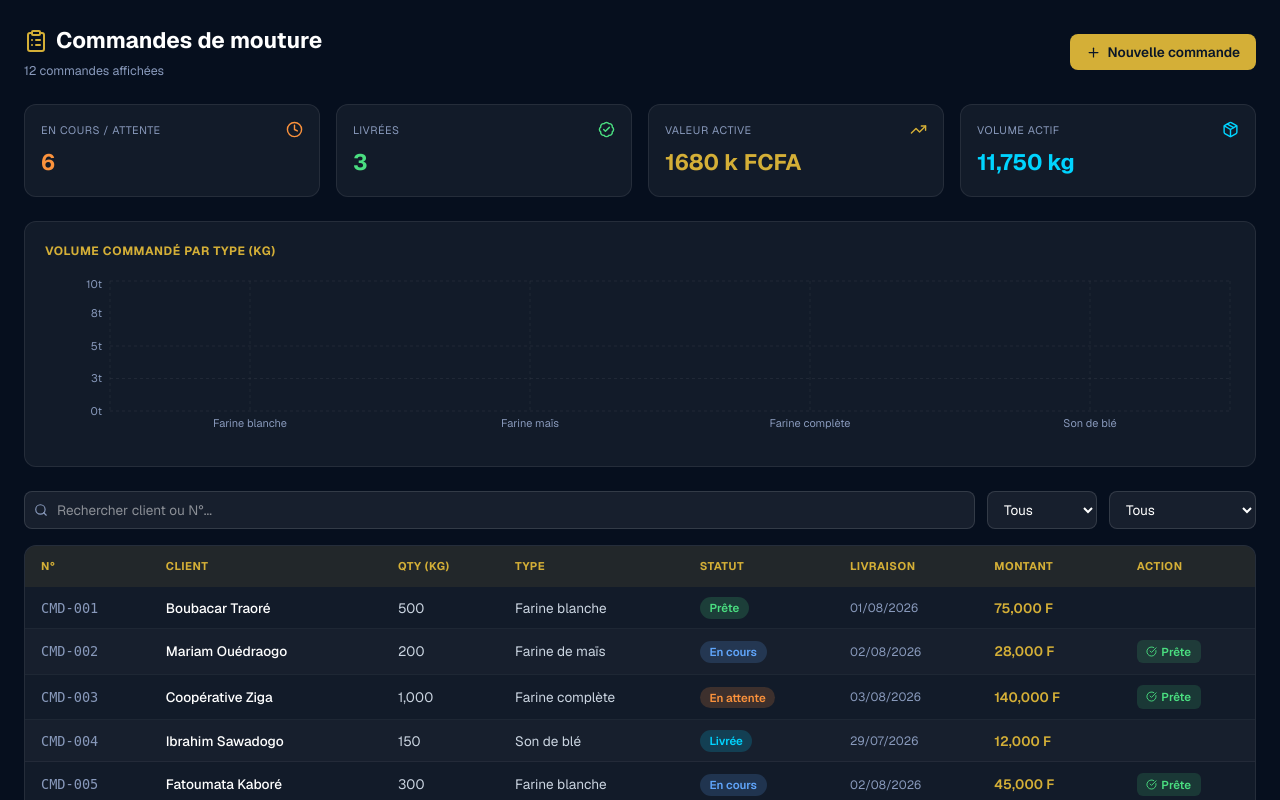
Test: CommandesPage › ouvre le modal Nouvelle commande au clic sur le bouton
The width and height of the screenshot is (1280, 800).
Click the button "Nouvelle commande": x=1163, y=52 [1070, 34, 1256, 70]
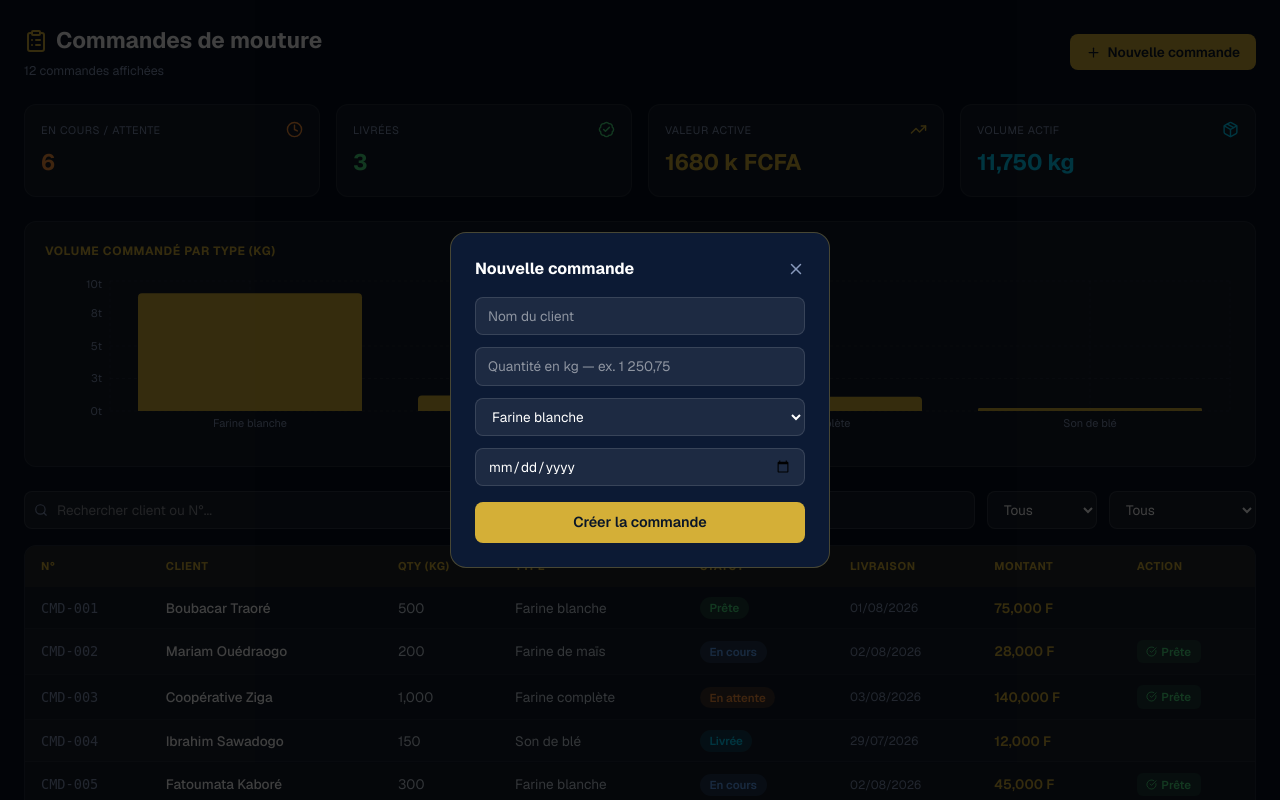
Now the heading "Nouvelle commande" is shown, box [475, 257, 634, 281]
